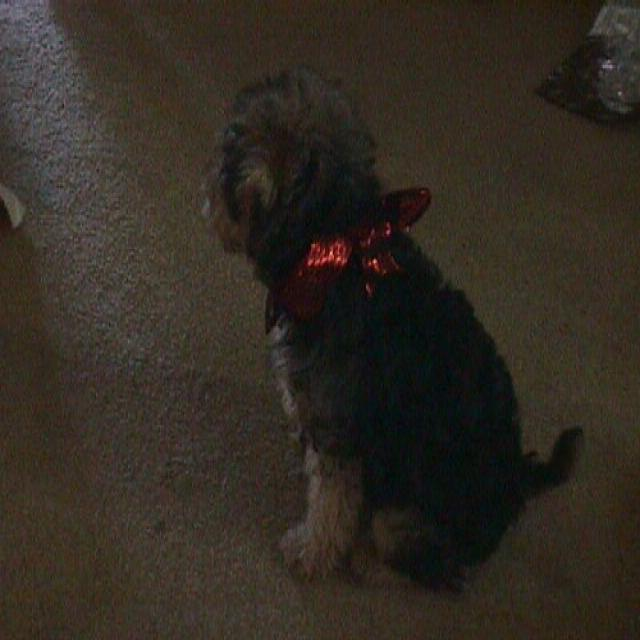Dog: (121, 22, 598, 584)
